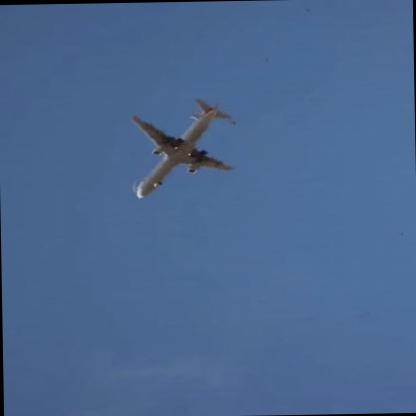plane: (123, 96, 240, 198)
